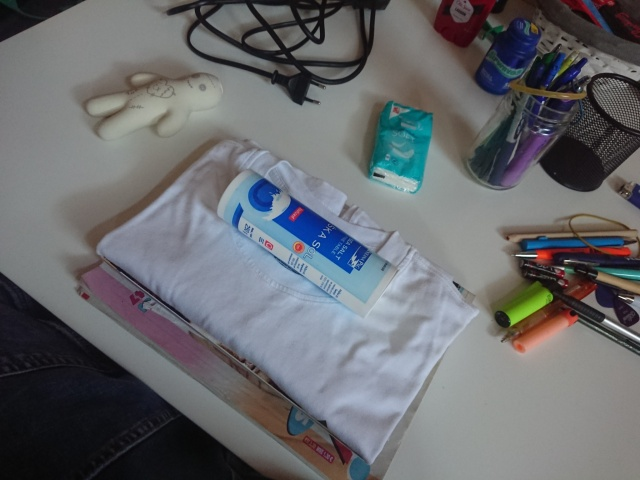Solana Pag Fine Sea Salt 250g: (213, 164, 403, 320)
